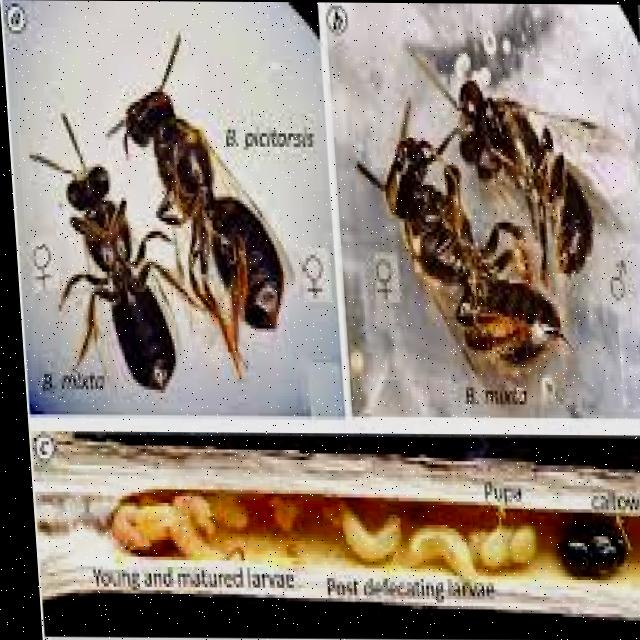Braunsapis: (358, 85, 570, 392), (109, 29, 306, 353), (32, 114, 189, 406), (434, 42, 603, 285)
